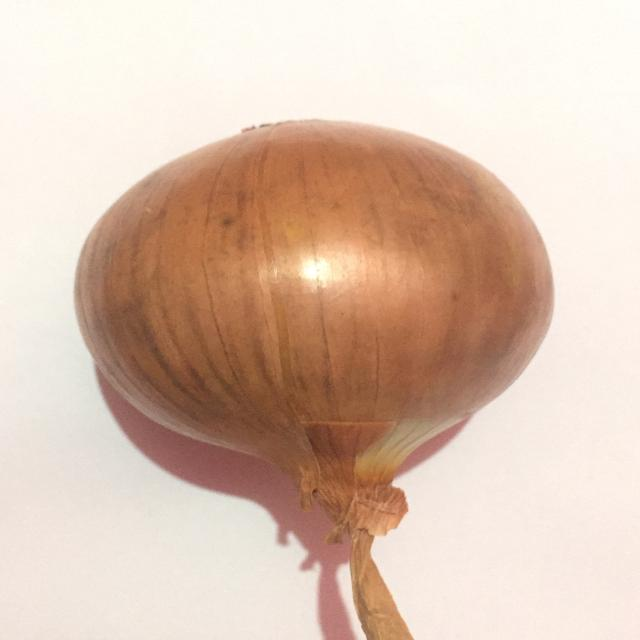onion: (69, 116, 561, 478)
